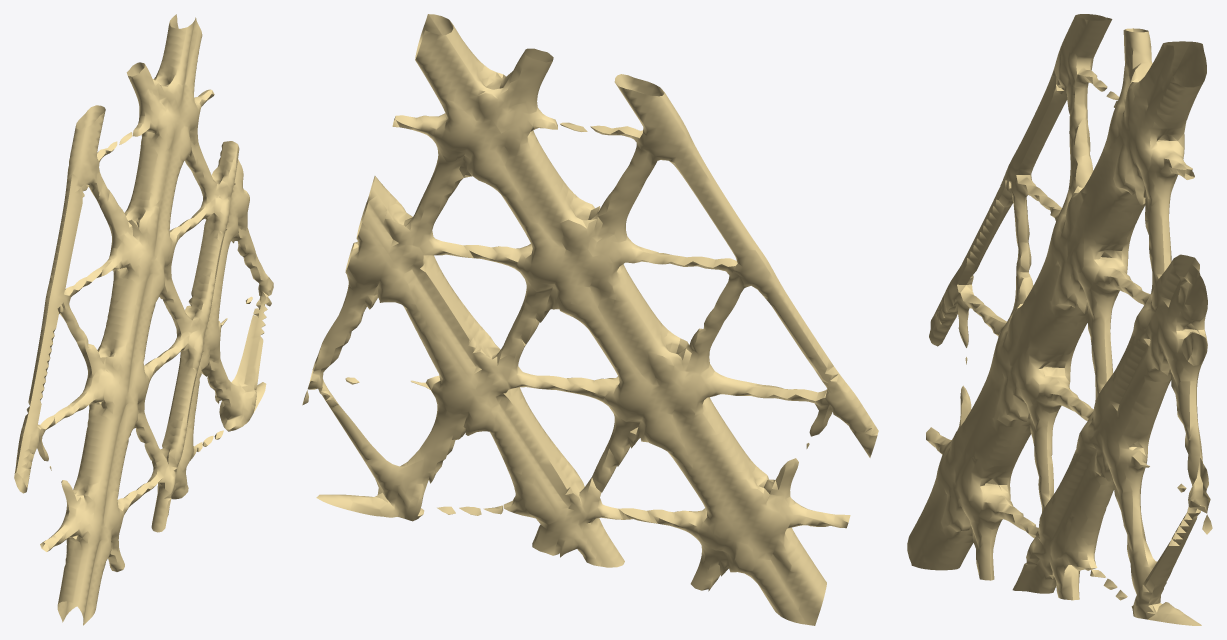
Rendered from detail.classical.diff_stress.p99.glb.
3 renders of one model, left to right at view 1: azimuth 30°, elevation 25°; view 2: azimuth 150°, elevation 25°; view 3: azimuth 270°, elevation 25°, orthographic. The views are drawn at different scales.
Parts seen in each view (by area): view 1: detail.classical.diff_stress.p99; view 2: detail.classical.diff_stress.p99; view 3: detail.classical.diff_stress.p99.
Boxes of the visible parts, x1,y1,x2,y2 form: detail.classical.diff_stress.p99: (14, 14, 273, 625); detail.classical.diff_stress.p99: (302, 14, 878, 625); detail.classical.diff_stress.p99: (907, 14, 1212, 625).
Bounding box in the file's own units: 1.49 × 1.97 × 0.8243.
